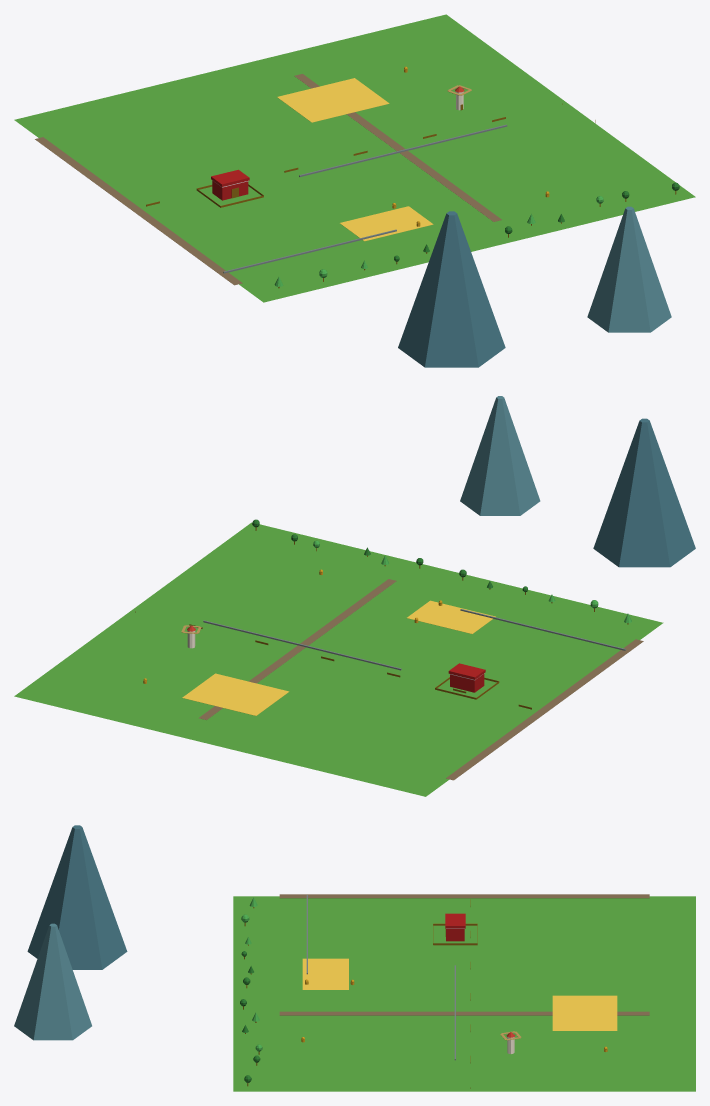
File: sector_r3_c1.glb
3 renders of one model, top to bottom at view 1: azimuth 30°, elevation 25°; view 2: azimuth 150°, elevation 25°; view 3: azimuth 270°, elevation 25°, orthographic. The views are drawn at different scales.
Parts seen in each view (by area): view 1: GROUND_r3_c1, MOUNTAIN_28, MOUNTAIN_29, GROUND_CropField_2, ROAD_Dirt_30, GROUND_CropField_6, ROAD_Dirt_31, WALL_StoneWall_2; view 2: GROUND_r3_c1, MOUNTAIN_28, MOUNTAIN_29, GROUND_CropField_2, ROAD_Dirt_30, GROUND_CropField_6, ROAD_Dirt_31; view 3: GROUND_r3_c1, MOUNTAIN_28, MOUNTAIN_29, GROUND_CropField_2, ROAD_Dirt_30, ROAD_Dirt_31, GROUND_CropField_6.
Part boxes in pixels (bbox=[...]): GROUND_r3_c1: bbox=[14, 14, 695, 302]; MOUNTAIN_28: bbox=[398, 211, 505, 367]; MOUNTAIN_29: bbox=[587, 206, 671, 332]; GROUND_CropField_2: bbox=[277, 78, 389, 122]; ROAD_Dirt_30: bbox=[35, 137, 242, 285]; GROUND_CropField_6: bbox=[340, 206, 433, 241]; ROAD_Dirt_31: bbox=[294, 74, 501, 221]; WALL_StoneWall_2: bbox=[299, 124, 507, 176]; GROUND_r3_c1: bbox=[14, 522, 663, 796]; MOUNTAIN_28: bbox=[593, 418, 695, 567]; MOUNTAIN_29: bbox=[460, 396, 540, 515]; GROUND_CropField_2: bbox=[182, 673, 289, 715]; ROAD_Dirt_30: bbox=[446, 639, 643, 780]; GROUND_CropField_6: bbox=[407, 600, 495, 633]; ROAD_Dirt_31: bbox=[198, 579, 396, 719]; GROUND_r3_c1: bbox=[233, 896, 695, 1091]; MOUNTAIN_28: bbox=[27, 825, 127, 969]; MOUNTAIN_29: bbox=[14, 923, 91, 1040]; GROUND_CropField_2: bbox=[552, 995, 617, 1030]; ROAD_Dirt_30: bbox=[279, 894, 649, 898]; ROAD_Dirt_31: bbox=[279, 1011, 649, 1015]; GROUND_CropField_6: bbox=[302, 958, 348, 989].
Size of the model in its own units: 252 by 74.3 by 369.
